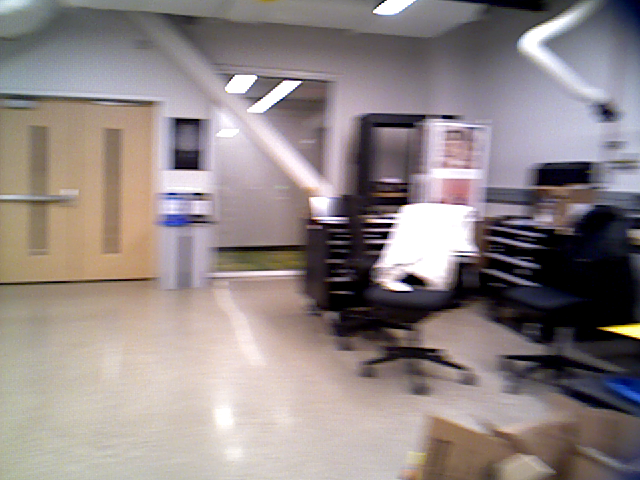painting1: (163, 120, 215, 173)
